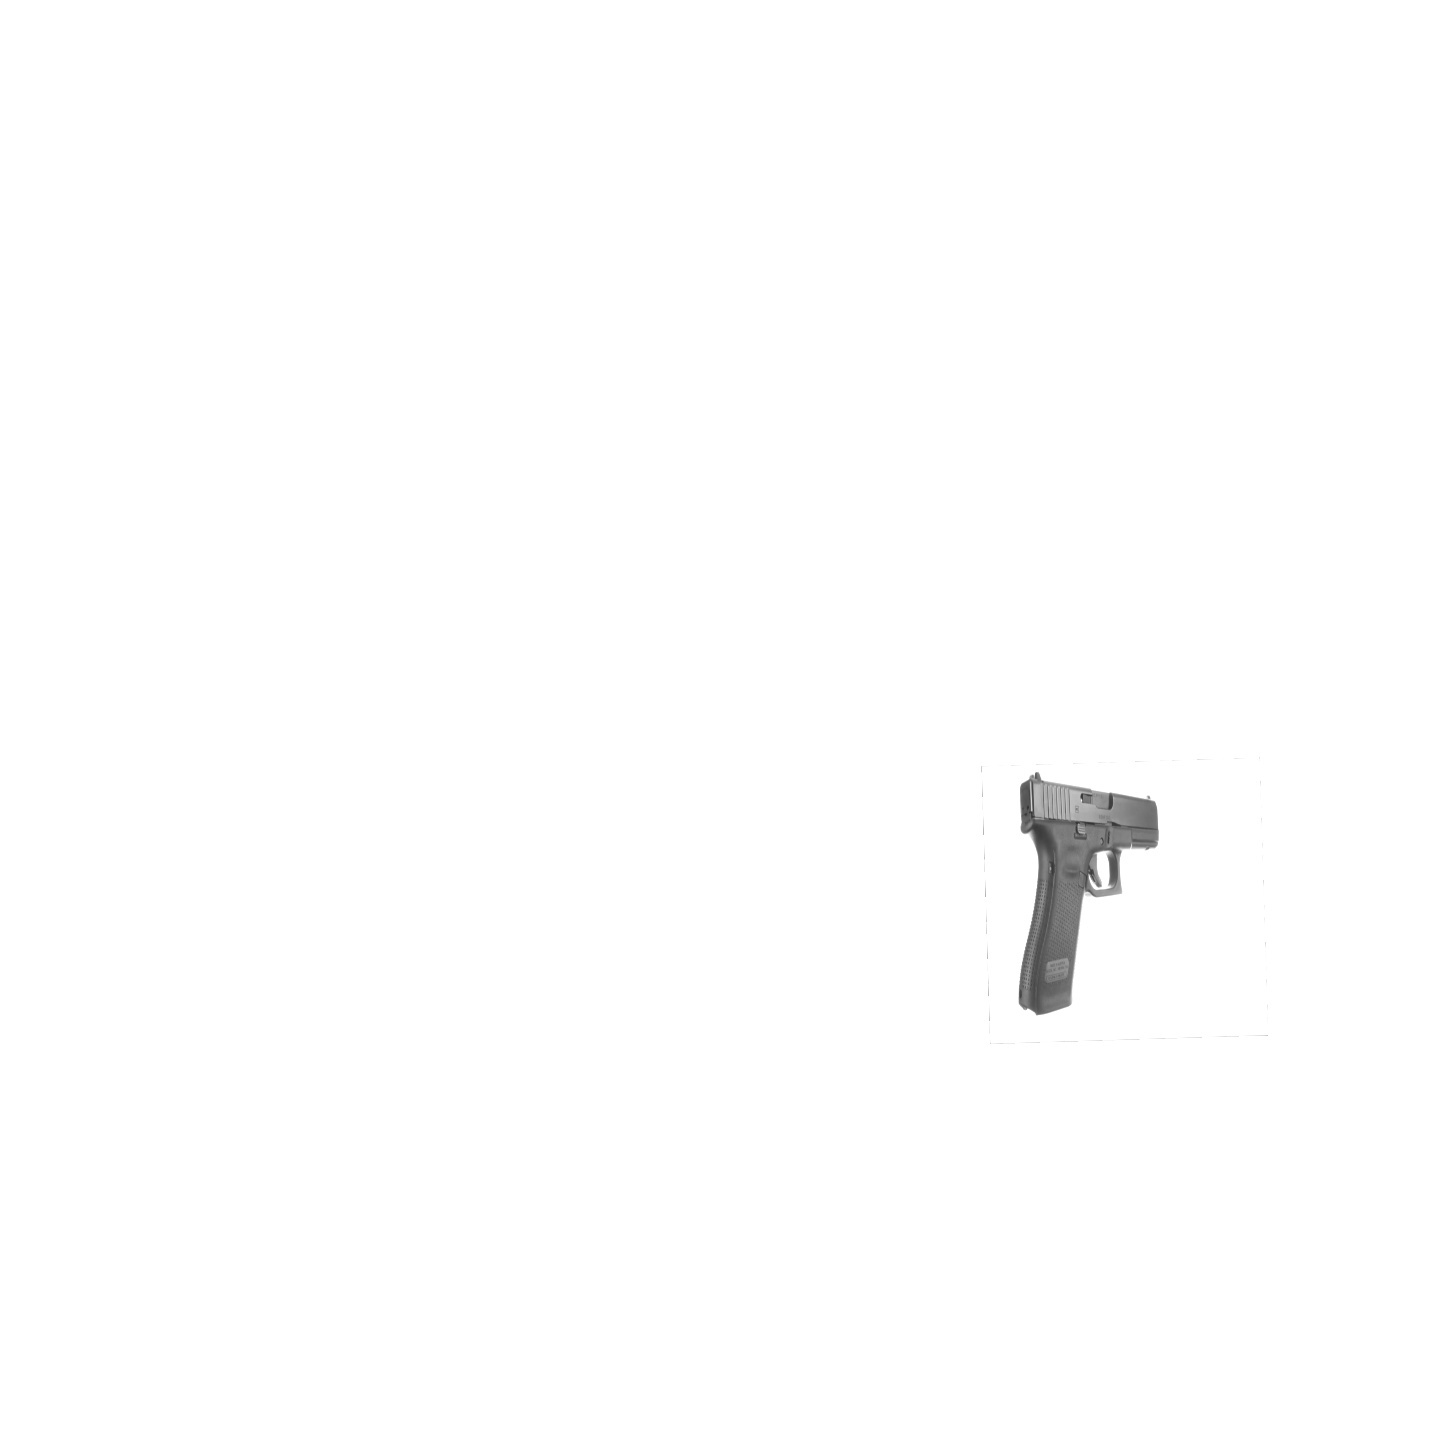gun: (1010, 770, 1161, 1019)
